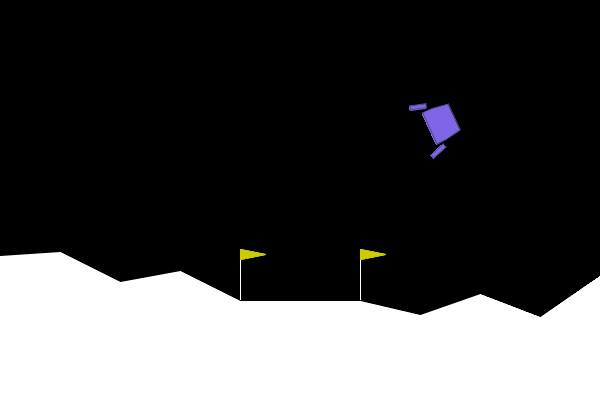lander: (407, 89, 468, 160)
